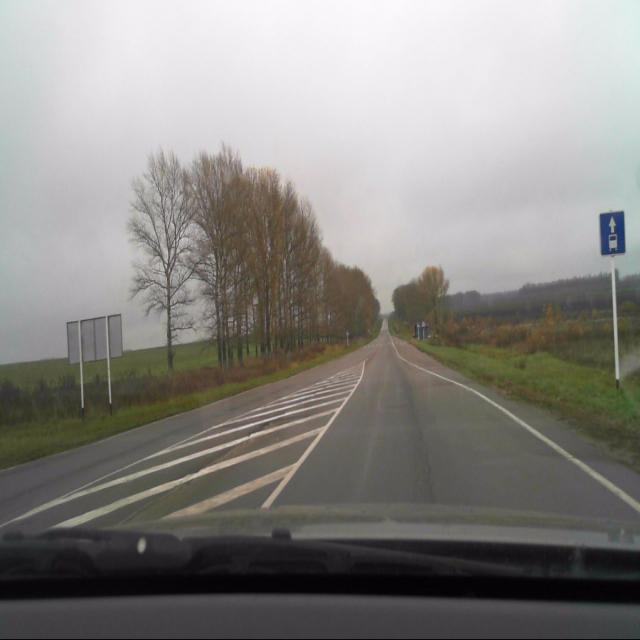object: (612, 259, 621, 395)
road sign: (600, 212, 626, 255)
